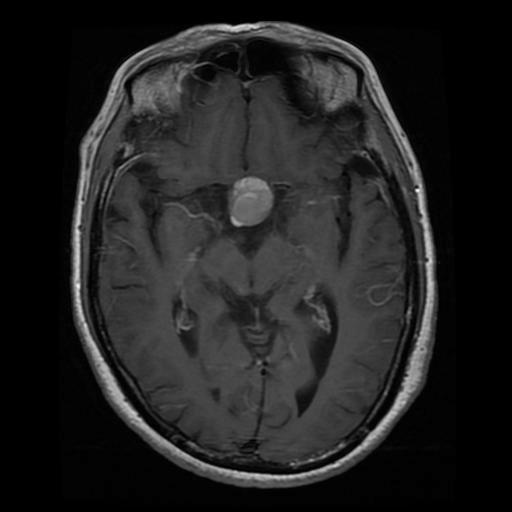Tumour-Pituitary: (228, 174, 280, 233)
